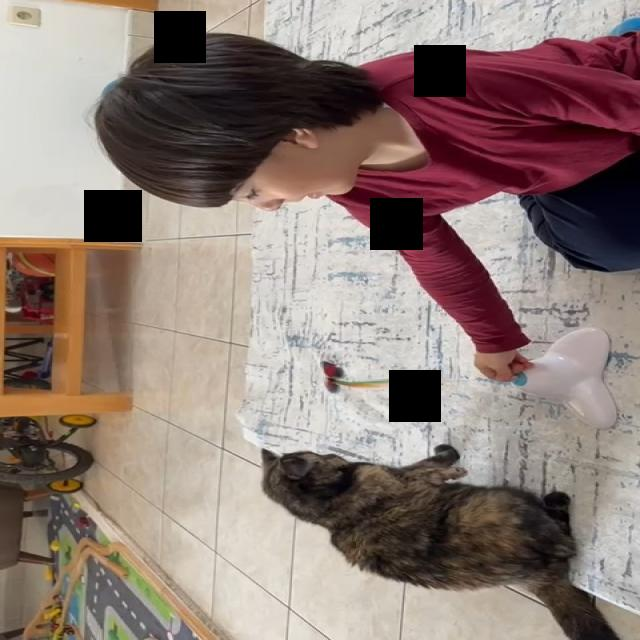authorized: (259, 443, 621, 639)
